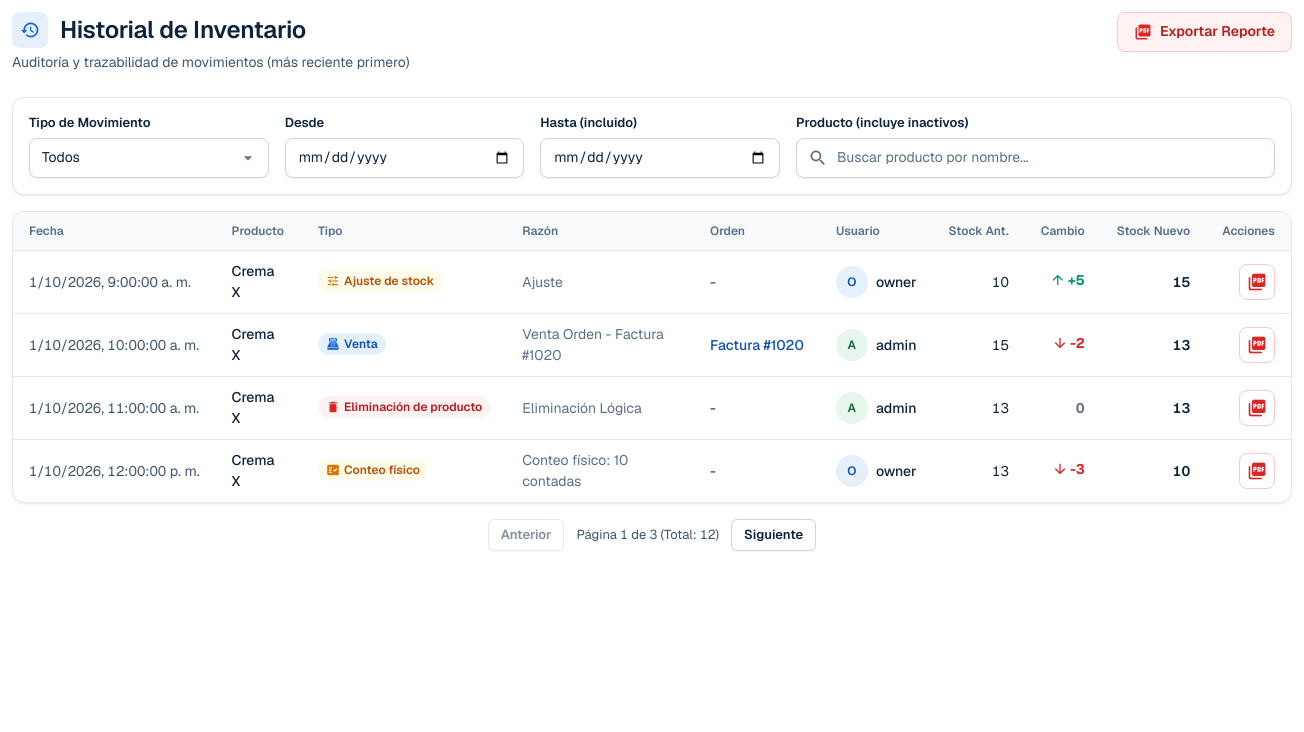
Test: "Desde" posterior a "Hasta": avisa y no consulta
Check: the text "Factura #1020" is shown, box [694, 314, 820, 377]
In the date field labelled "Hasta (incluido)": (660, 158) [540, 138, 780, 178], type "2026-10-01"
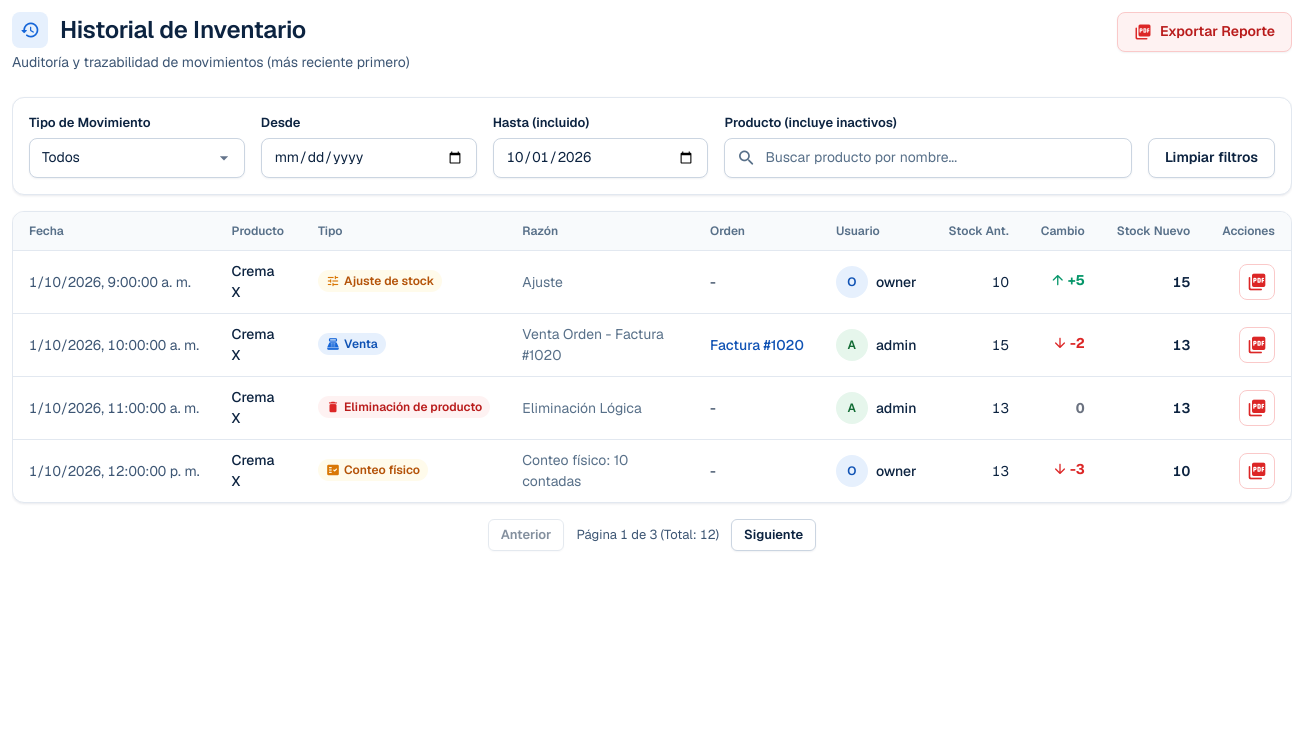
In the date field labelled "Desde": (369, 158) [261, 138, 477, 178], type "2026-10-05"
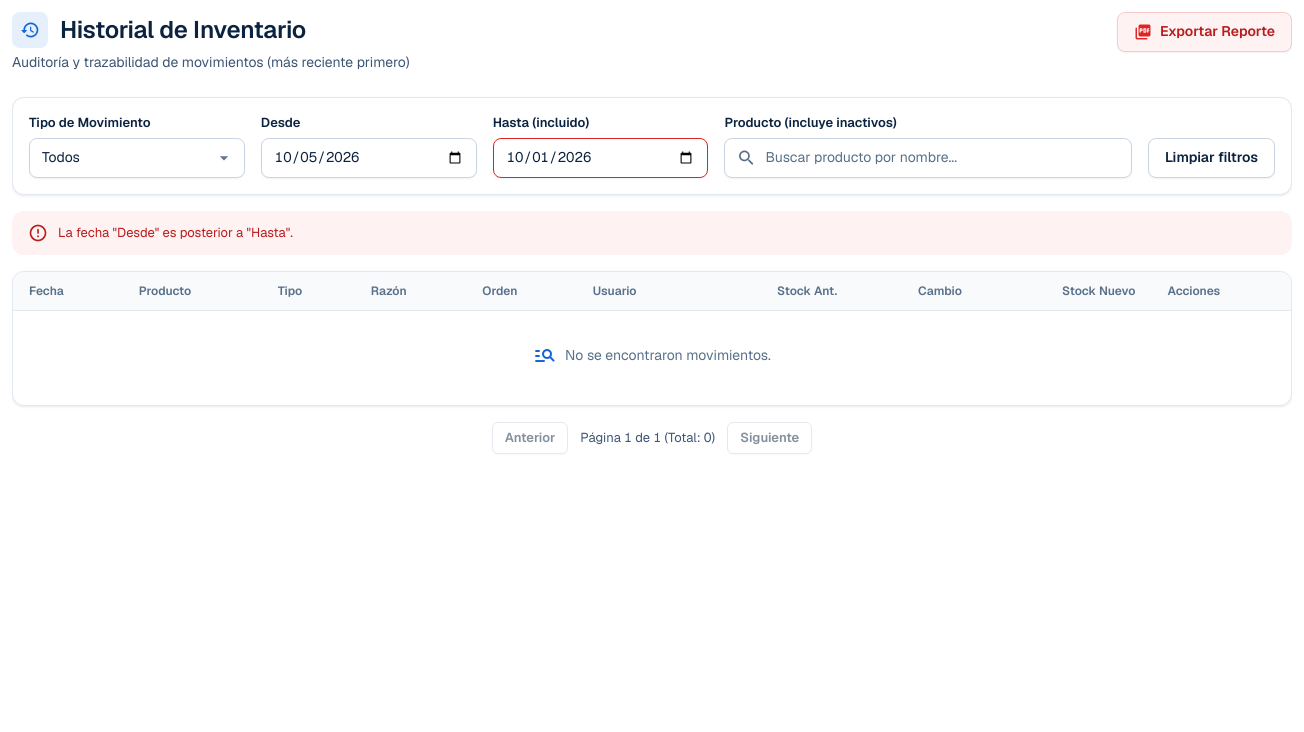
Check: the message shows "posterior", box [58, 224, 293, 241]
